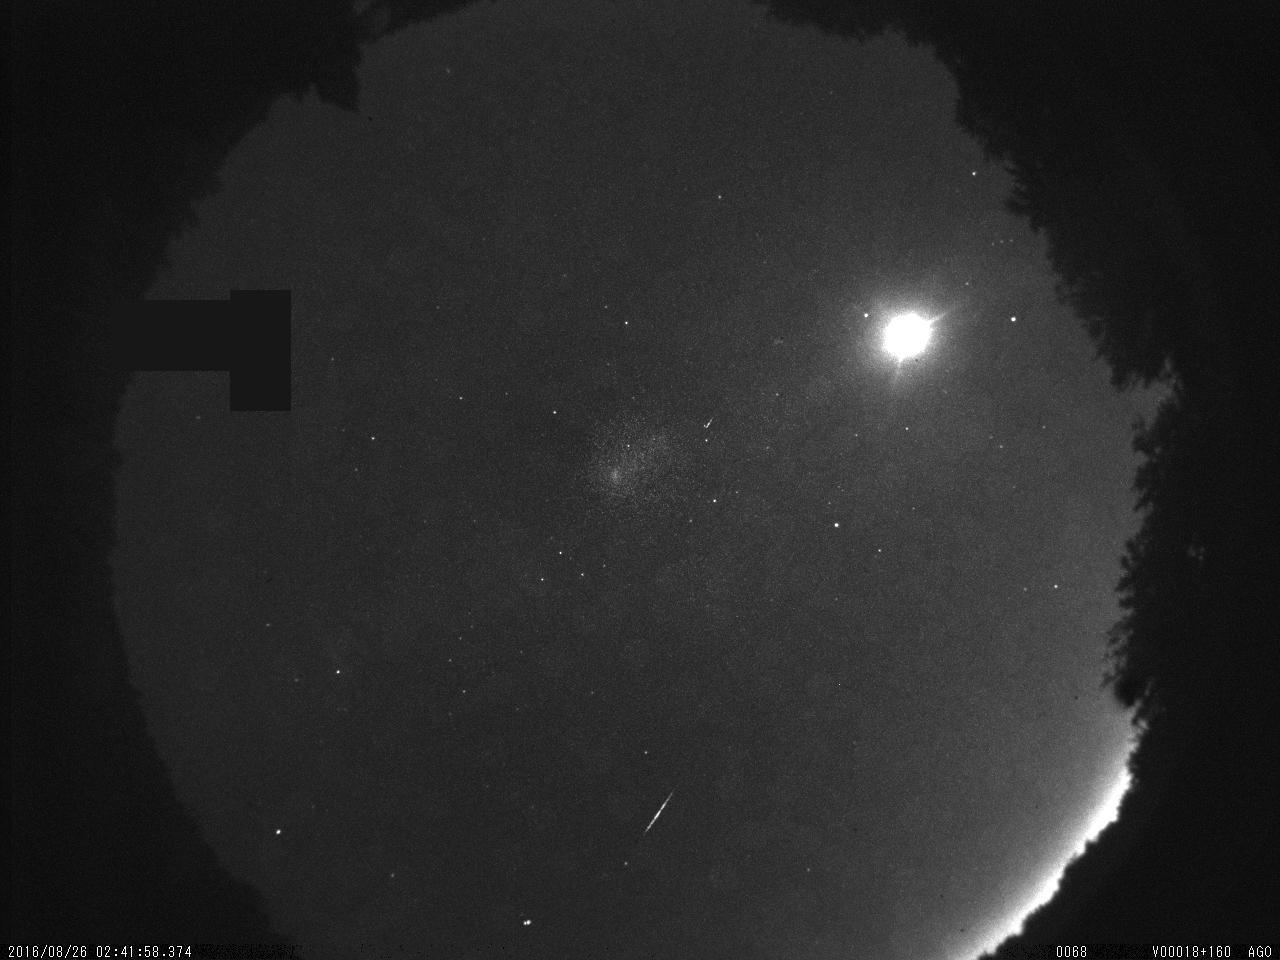meteor: (638, 776, 682, 854)
